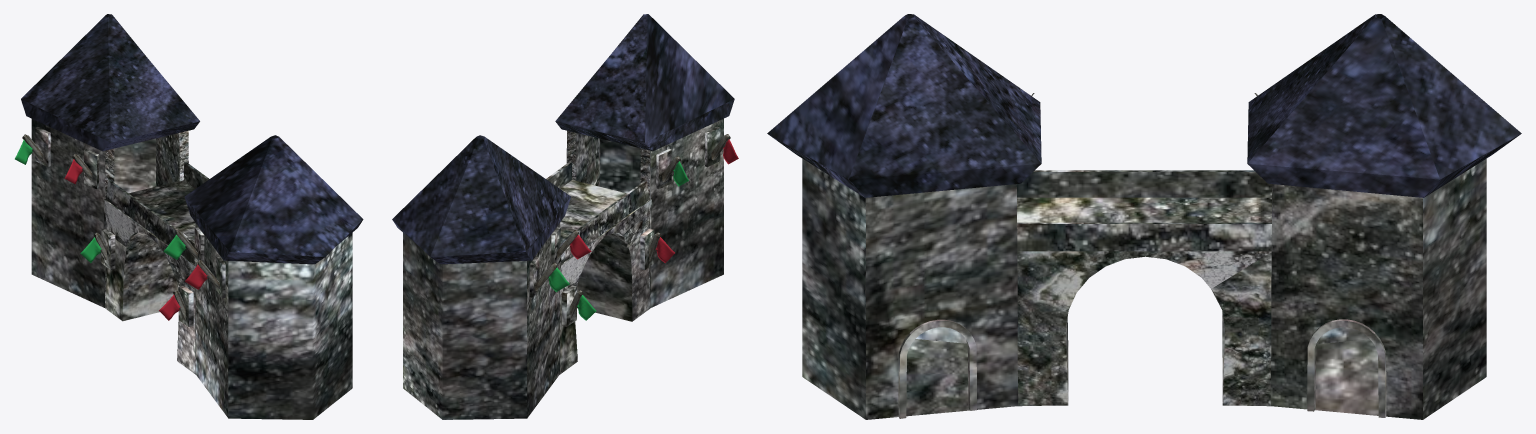
Rendered from lunch.fbx.
The picture shows the model from 3 angles, left to right: view 1: azimuth 30°, elevation 25°; view 2: azimuth 150°, elevation 25°; view 3: azimuth 270°, elevation 25°; orthographic projection. The views are drawn at different scales.
Visible parts, largest first — view 1: Cube.011, Cube.002, Cube.001, Plane.004, Plane.002, Plane.001, Plane.008; view 2: Cube.011, Cube.002, Cube.001, Plane.001, Plane.008, Plane.004, Plane.002; view 3: Cube.011, Cube.002, Cube.001.
Part boxes in pixels (<box>): Cube.011: <box>31,119,352,419</box>; Cube.002: <box>21,14,363,264</box>; Cube.001: <box>105,162,209,264</box>; Plane.004: <box>185,260,219,289</box>; Plane.002: <box>163,230,197,259</box>; Plane.001: <box>15,134,42,164</box>; Plane.008: <box>64,154,92,184</box>; Cube.011: <box>403,118,723,419</box>; Cube.002: <box>392,14,734,264</box>; Cube.001: <box>546,161,649,264</box>; Plane.001: <box>535,262,569,291</box>; Plane.008: <box>557,230,591,259</box>; Plane.004: <box>711,134,738,164</box>; Plane.002: <box>662,156,688,186</box>; Cube.011: <box>802,93,1486,419</box>; Cube.002: <box>767,14,1521,197</box>; Cube.001: <box>1016,170,1272,251</box>.
Size of the model in its own units: 282 by 432 by 818.
